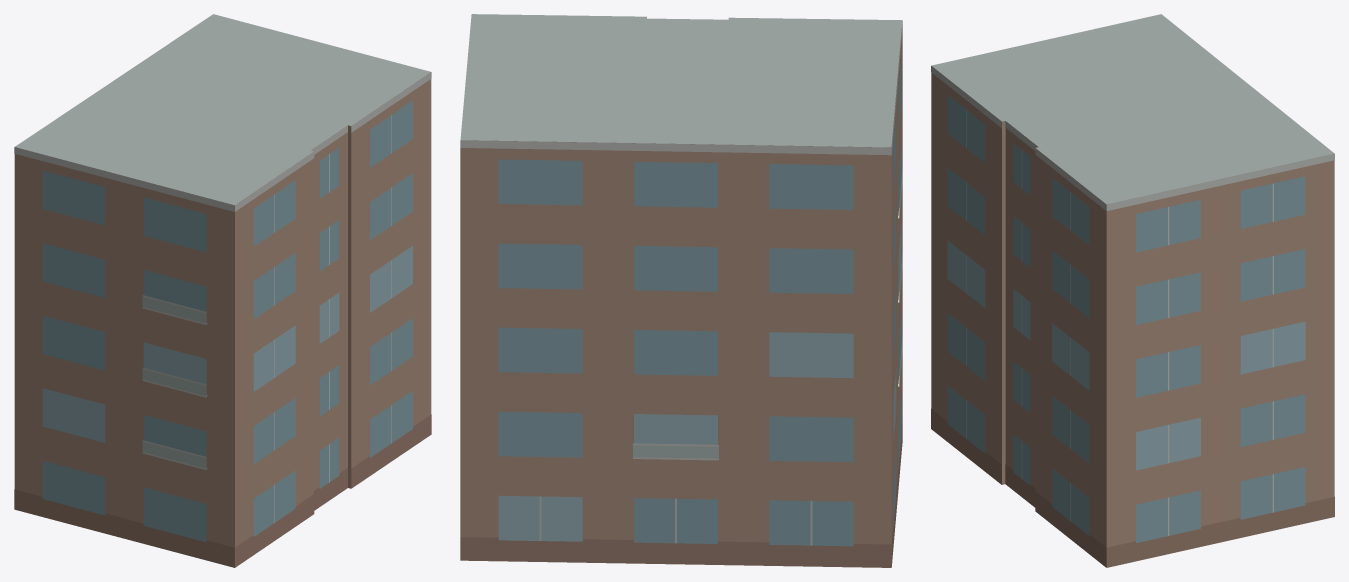
The model's file is survey-upis-32949988.glb.
3 renders of one model, left to right at view 1: azimuth 30°, elevation 25°; view 2: azimuth 150°, elevation 25°; view 3: azimuth 270°, elevation 25°, orthographic. The views are drawn at different scales.
Parts seen in each view (by area): view 1: survey-upis-32949988.tmp; view 2: survey-upis-32949988.tmp; view 3: survey-upis-32949988.tmp.
Part boxes in pixels (x1,y1,x2,y2): survey-upis-32949988.tmp: (14, 14, 431, 567); survey-upis-32949988.tmp: (460, 14, 902, 567); survey-upis-32949988.tmp: (931, 14, 1334, 567).
Size of the model in its own units: 14.85 by 13.2 by 13.3.
